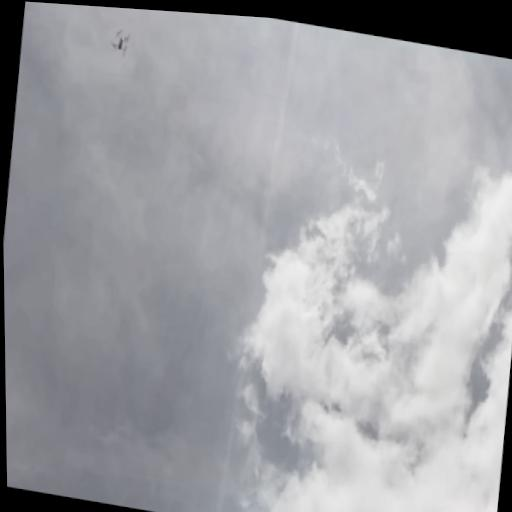drones: (107, 19, 135, 63)
